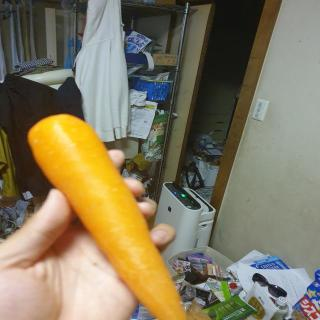carrot: (26, 112, 191, 320)
